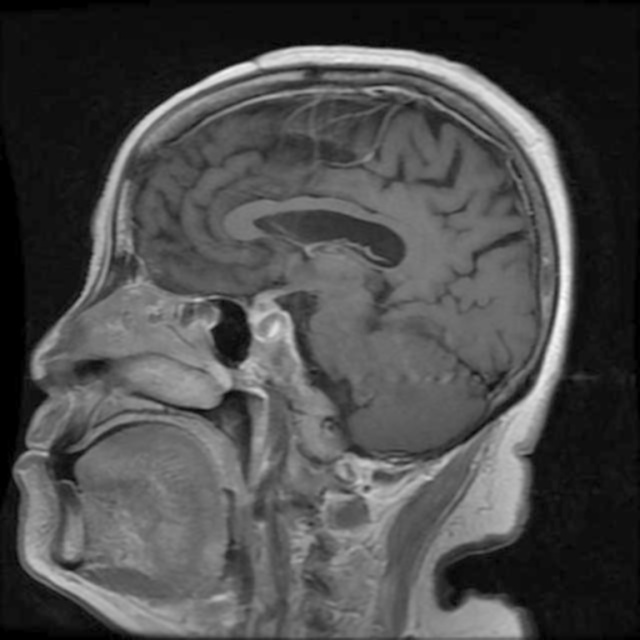no tumor: (247, 290, 305, 366)
